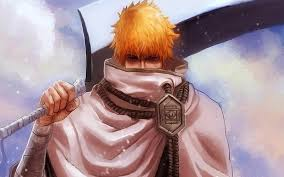Ichigo: (113, 7, 174, 79)
